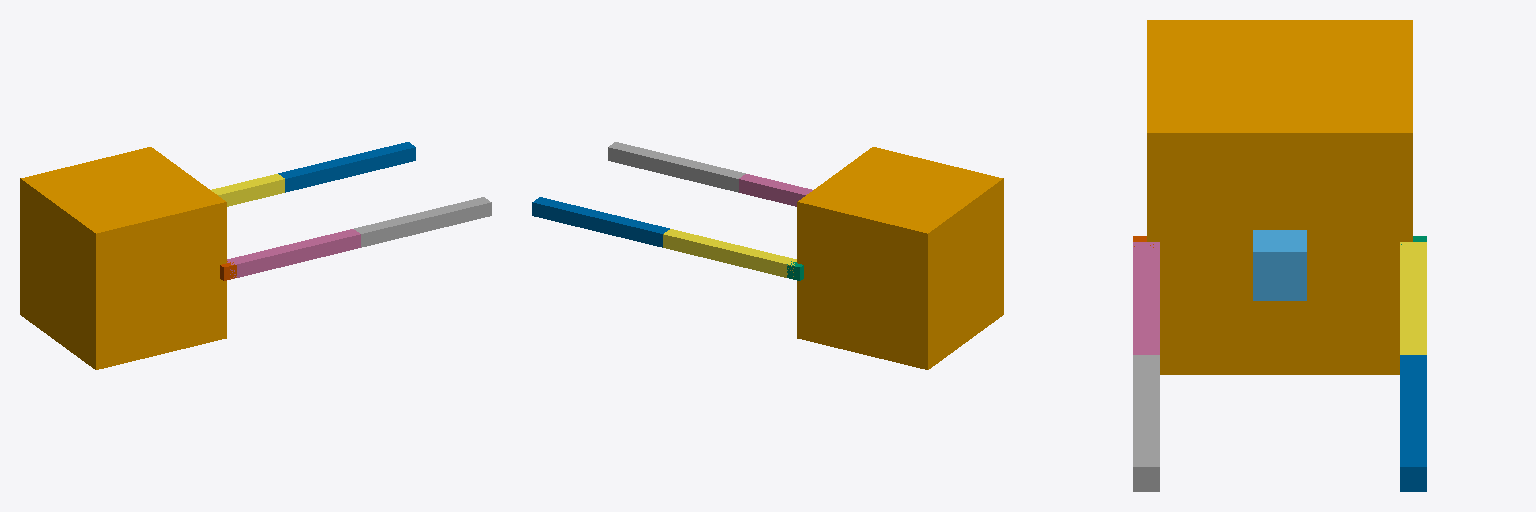
The robot description file, URDF, robot "robot":
<?xml version="1.0"?>

<robot name="robot">

    <!-- Robot's body -->
    <link name="body_link">
        <inertial>
            <origin xyz="0 0 0" rpy="0 0 0"/>
            <mass value="1"/>
            <inertia ixx="0.1" ixy="0.0" ixz="0.0" iyy="0.1" iyz="0.0" izz="0.1"/>
        </inertial>
        <visual>
            <origin xyz="0 0 0" rpy="0 0 0"/>
            <geometry>
                <box size="1 1 1"/>
            </geometry>
        </visual>
        <collision>
            <origin xyz="0 0 0" rpy="0 0 0"/>
            <geometry>
                <box size="1 1 1"/>
            </geometry>
        </collision>
    </link>
	
    <!-- Robot's nose -->
    <link name="nose_link">
        <inertial>
            <origin xyz="0 0 0" rpy="0 0 0"/>
            <mass value="1"/>
            <inertia ixx="0.1" ixy="0.0" ixz="0.0" iyy="0.1" iyz="0.0" izz="0.1"/>
        </inertial>
        <visual>
            <origin xyz="0 0 0" rpy="0 0 0"/>
            <geometry>
                <box size=".2 .2 .2"/>
            </geometry>
        </visual>
        <collision>
            <origin xyz="0 0 0" rpy="0 0 0"/>
            <geometry>
                <box size=".2 .2 .2"/>
            </geometry>
        </collision>
    </link>
	
    <!-- Joint: base, nose -->
    <joint name="body_nose_joint" type="fixed">
        <parent link="body_link"/>
        <child link="nose_link"/>
        <origin xyz=".6 0 0" rpy="0 0 0"/>
        <axis xyz="0 1 0"/>
    </joint>

    <!-- Robot's left shoulder -->
    <link name="left_shoulder_link">
        <inertial>
            <origin xyz="0 0 0" rpy="0 0 0"/>
            <mass value="1"/>
            <inertia ixx="0.1" ixy="0.0" ixz="0.0" iyy="0.1" iyz="0.0" izz="0.1"/>
        </inertial>
        <visual>
            <origin xyz="0 0 0" rpy="0 0 0"/>
            <geometry>
                <box size=".1 0.1 0.1"/>
            </geometry>
        </visual>
        <collision>
            <origin xyz="0 0 0" rpy="0 0 0"/>
            <geometry>
                <box size=".1 0.1 0.1"/>
            </geometry>
        </collision>
    </link>

    <!-- Joint: base, left shoulder -->
    <joint name="body_left_shoulder_joint" type="continuous">
        <parent link="body_link"/>
        <child link="left_shoulder_link"/>
        <origin xyz=".5 .5 0" rpy="0 0 0"/>
        <axis xyz="0 1 0"/>
    </joint>

    <!-- Robot's left arm -->
    <link name="left_arm_link">
        <inertial>
            <origin xyz=".5 0 0" rpy="0 0 0"/>
            <mass value="1"/>
            <inertia ixx="0.1" ixy="0.0" ixz="0.0" iyy="0.1" iyz="0.0" izz="0.1"/>
        </inertial>
        <visual>
            <origin xyz=".5 0 0" rpy="0 0 0"/>
            <geometry>
                <box size="1 0.1 0.1"/>
            </geometry>
        </visual>
        <collision>
            <origin xyz=".5 0 0" rpy="0 0 0"/>
            <geometry>
                <box size="1 0.1 0.1"/>
            </geometry>
        </collision>
    </link>

	<!-- Joint: left shoulder, left arm -->
	<joint name="left_shoulder_left_arm_joint" type="continuous">
		<parent link="left_shoulder_link"/>
		<child link="left_arm_link"/>
		<origin xyz="0 0 0" rpy="0 0 0"/>
		<axis xyz="0 0 1"/>
	</joint>
	
	<!-- Robot's left hand -->
	<link name="left_hand_link">
		<inertial>
			<origin xyz=".5 0 0" rpy="0 0 0"/>
			<mass value="1"/>
			<inertia ixx="0.01" ixy="0.0" ixz="0.0" iyy="0.01" iyz="0.0" izz="0.01"/>
		</inertial>
		<visual>
			<origin xyz=".5 0 0" rpy="0 0 0"/>
			<geometry>
				<box size="1 .1 .1"/>
			</geometry>
		</visual>
		<collision>
			<origin xyz=".5 0 0" rpy="0 0 0"/>
			<geometry>
				<box size="1 .1 .1"/>
			</geometry>
		</collision>
	</link>

	<!-- Joint: left arm, left hand -->
	<joint name="left_arm_left_hand_joint" type="continuous">
		<parent link="left_arm_link"/>
		<child link="left_hand_link"/>
		<origin xyz="1 0 0" rpy="0 0 0"/>
		<axis xyz="0 0 1"/>
	</joint>

    <!-- Robot's right shoulder -->
    <link name="right_shoulder_link">
        <inertial>
            <origin xyz="0 0 0" rpy="0 0 0"/>
            <mass value="1"/>
            <inertia ixx="0.1" ixy="0.0" ixz="0.0" iyy="0.1" iyz="0.0" izz="0.1"/>
        </inertial>
        <visual>
            <origin xyz="0 0 0" rpy="0 0 0"/>
            <geometry>
                <box size=".1 0.1 0.1"/>
            </geometry>
        </visual>
        <collision>
            <origin xyz="0 0 0" rpy="0 0 0"/>
            <geometry>
                <box size=".1 0.1 0.1"/>
            </geometry>
        </collision>
    </link>

    <!-- Joint: base, right shoulder -->
    <joint name="body_right_shoulder_joint" type="continuous">
        <parent link="body_link"/>
        <child link="right_shoulder_link"/>
        <origin xyz=".5 -.5 0" rpy="0 0 0"/>
        <axis xyz="0 1 0"/>
    </joint>

    <!-- Robot's right arm -->
    <link name="right_arm_link">
        <inertial>
            <origin xyz=".5 0 0" rpy="0 0 0"/>
            <mass value="1"/>
            <inertia ixx="0.1" ixy="0.0" ixz="0.0" iyy="0.1" iyz="0.0" izz="0.1"/>
        </inertial>
        <visual>
            <origin xyz=".5 0 0" rpy="0 0 0"/>
            <geometry>
                <box size="1 0.1 0.1"/>
            </geometry>
        </visual>
        <collision>
            <origin xyz=".5 0 0" rpy="0 0 0"/>
            <geometry>
                <box size="1 0.1 0.1"/>
            </geometry>
        </collision>
    </link>

	<!-- Joint: right shoulder, right arm -->
	<joint name="right_shoulder_right_arm_joint" type="continuous">
		<parent link="right_shoulder_link"/>
		<child link="right_arm_link"/>
		<origin xyz="0 0 0" rpy="0 0 0"/>
		<axis xyz="0 0 1"/>
	</joint>
	
	<!-- Robot's right hand -->
	<link name="right_hand_link">
		<inertial>
			<origin xyz=".5 0 0" rpy="0 0 0"/>
			<mass value="1"/>
			<inertia ixx="0.01" ixy="0.0" ixz="0.0" iyy="0.01" iyz="0.0" izz="0.01"/>
		</inertial>
		<visual>
			<origin xyz=".5 0 0" rpy="0 0 0"/>
			<geometry>
				<box size="1 .1 .1"/>
			</geometry>
		</visual>
		<collision>
			<origin xyz=".5 0 0" rpy="0 0 0"/>
			<geometry>
				<box size="1 .1 .1"/>
			</geometry>
		</collision>
	</link>

	<!-- Joint: right arm, right hand -->
	<joint name="right_arm_right_hand_joint" type="continuous">
		<parent link="right_arm_link"/>
		<child link="right_hand_link"/>
		<origin xyz="1 0 0" rpy="0 0 0"/>
		<axis xyz="0 0 1"/>
	</joint>

</robot>

--- Facts derived from the render (not from the file) ---
Views: 3 orthographic renders of the robot side by side, from view 1: azimuth 30°, elevation 25°; view 2: azimuth 150°, elevation 25°; view 3: azimuth 270°, elevation 25°.
Model robot with 8 links and 7 joints (6 continuous, 1 fixed), rooted at body_link, posed every joint at zero.
Visible links, largest first — view 1: body_link, left_hand_link, right_hand_link, right_arm_link, left_arm_link; view 2: body_link, left_hand_link, right_hand_link, left_arm_link, right_arm_link; view 3: body_link, nose_link, left_hand_link, right_hand_link, left_arm_link, right_arm_link.
Boxes of the visible links, x1=… form: body_link: x1=20, y1=147, x2=226, y2=369; left_hand_link: x1=278, y1=142, x2=415, y2=192; right_hand_link: x1=354, y1=197, x2=491, y2=247; right_arm_link: x1=227, y1=229, x2=360, y2=278; left_arm_link: x1=211, y1=174, x2=284, y2=206; body_link: x1=797, y1=147, x2=1003, y2=369; left_hand_link: x1=532, y1=197, x2=669, y2=247; right_hand_link: x1=608, y1=142, x2=745, y2=192; left_arm_link: x1=663, y1=229, x2=796, y2=277; right_arm_link: x1=739, y1=174, x2=812, y2=206; body_link: x1=1147, y1=20, x2=1412, y2=374; nose_link: x1=1253, y1=230, x2=1306, y2=300; left_hand_link: x1=1400, y1=355, x2=1426, y2=491; right_hand_link: x1=1133, y1=355, x2=1159, y2=491; left_arm_link: x1=1400, y1=242, x2=1426, y2=354; right_arm_link: x1=1133, y1=242, x2=1159, y2=354.
Size in the robot's own frame: 3 by 1.1 by 1 metres.
Geometry: primitives only (box / cylinder / sphere), no mesh files.
